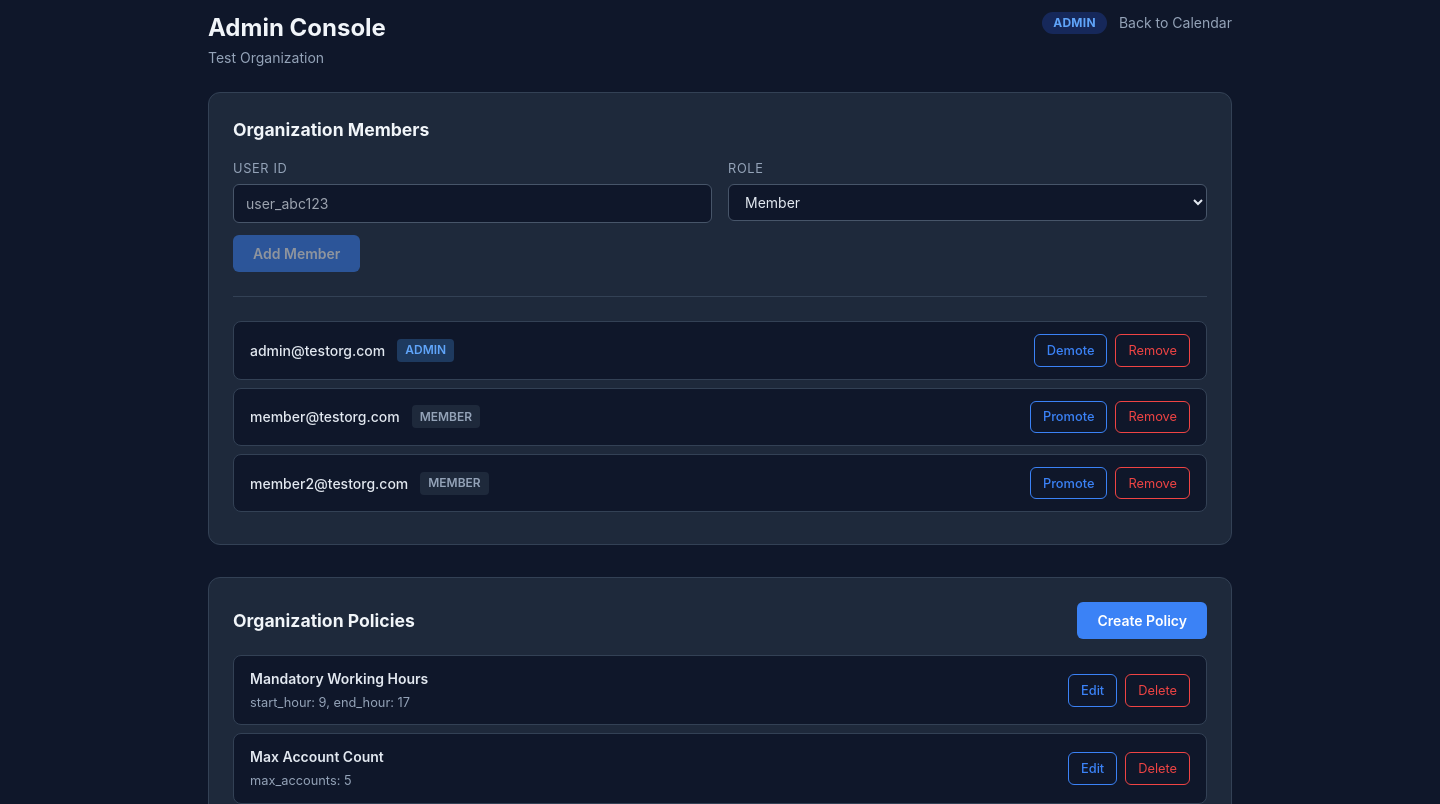
Test case: AC1: Admin member management › shows error when add member fails
The width and height of the screenshot is (1440, 804).
In the field with test id "new-member-id-input": coordinates (472, 204) [233, 184, 712, 223], type "invalid_user"
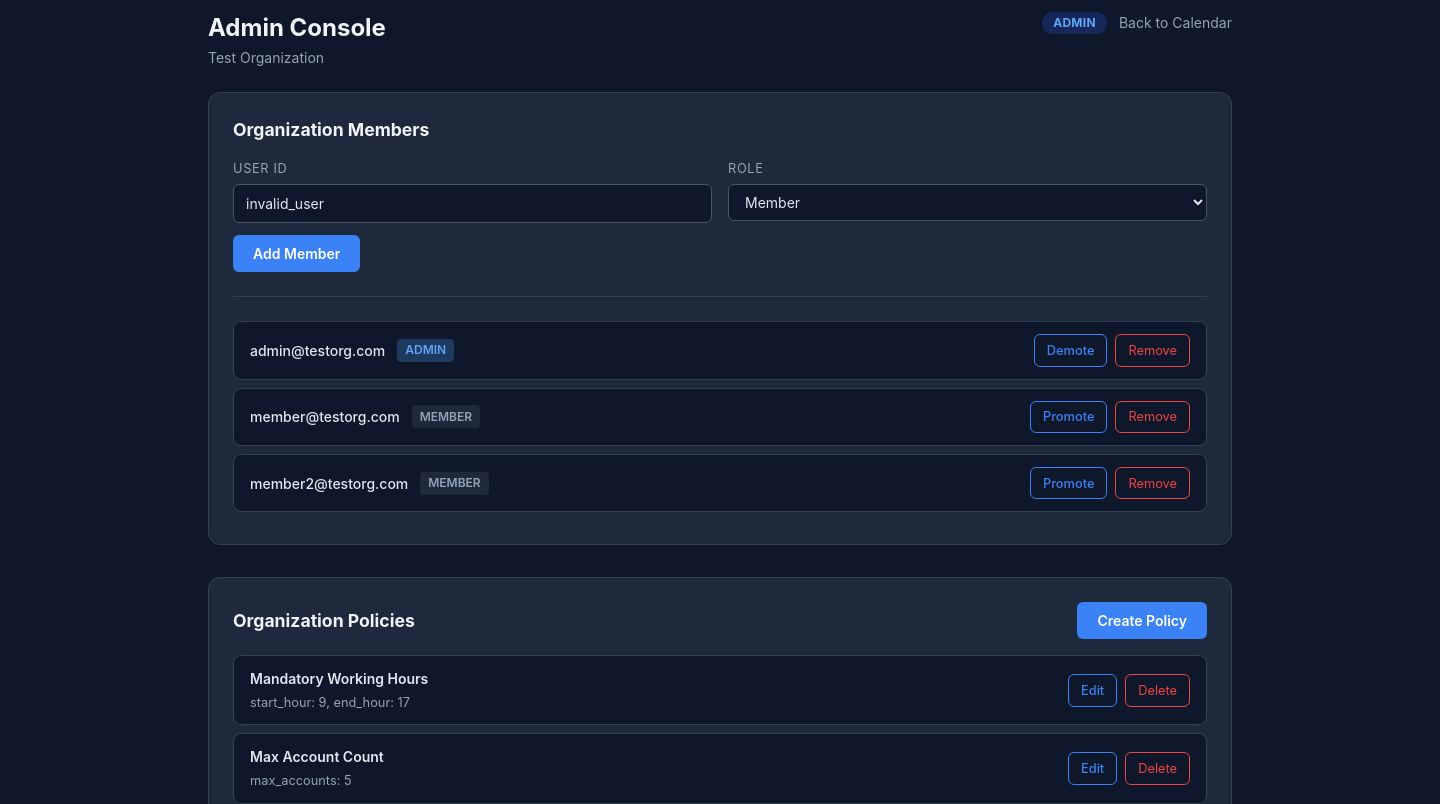
Click the button with test id "add-member-btn": coordinates (297, 254) [233, 235, 360, 272]
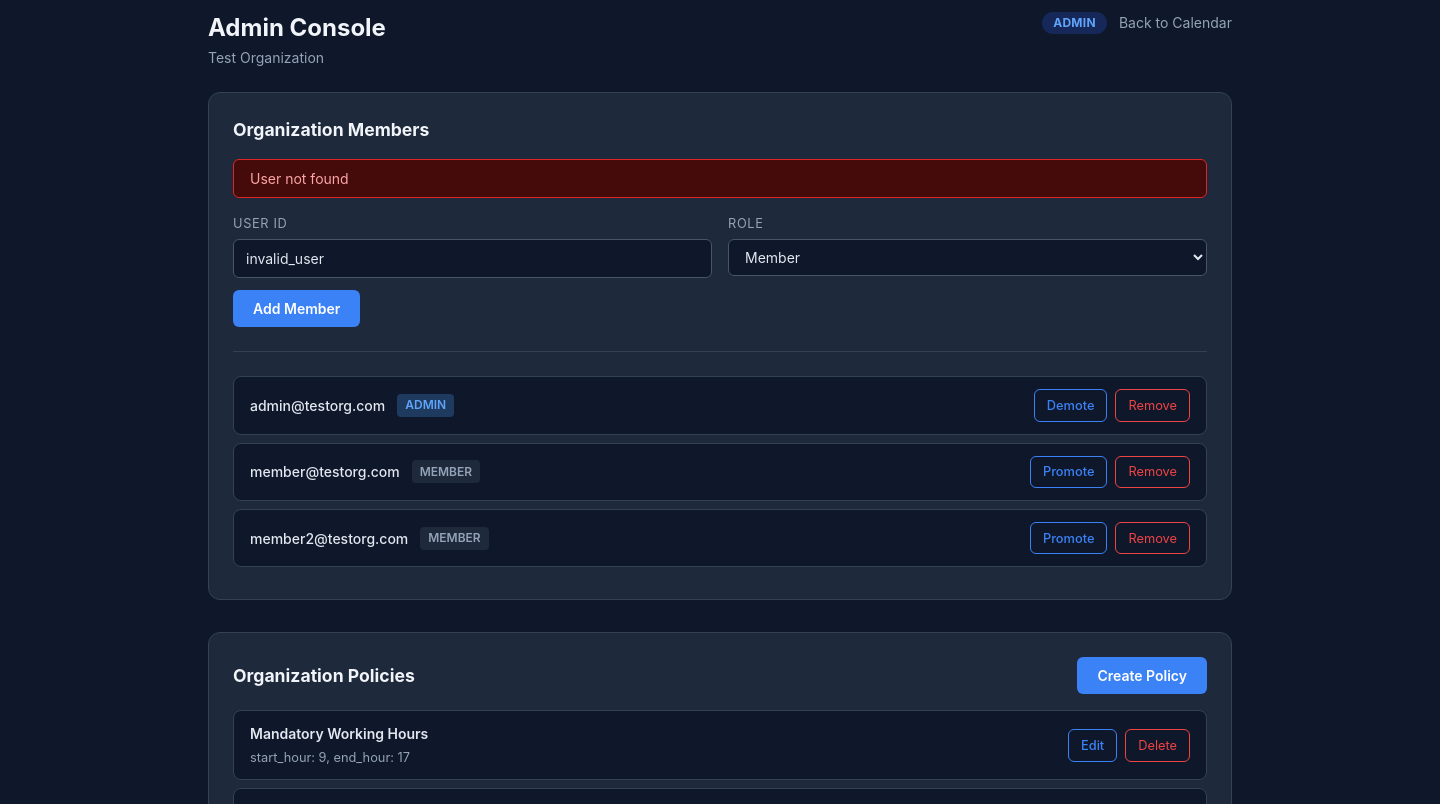
Now the text with test id "member-action-error" reads "User not found", box [250, 170, 349, 187]
